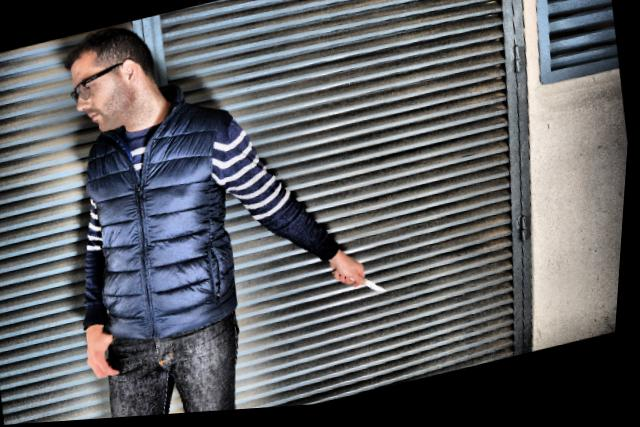knife: (330, 262, 396, 312)
